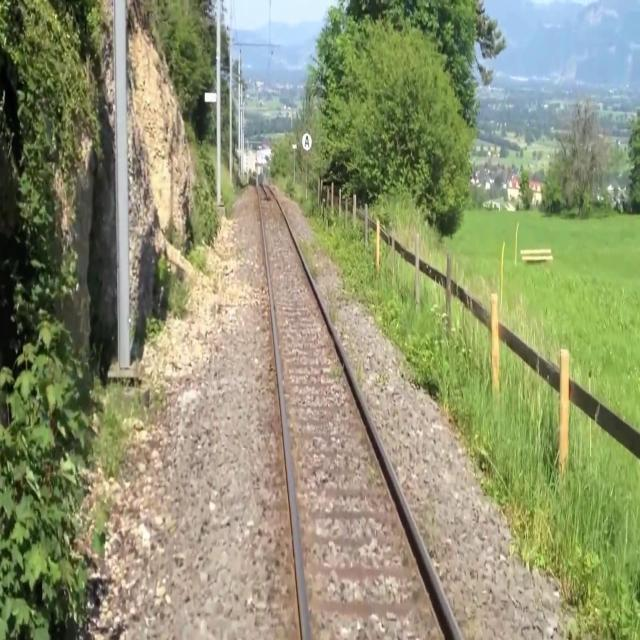rail-track: (257, 184, 457, 639)
